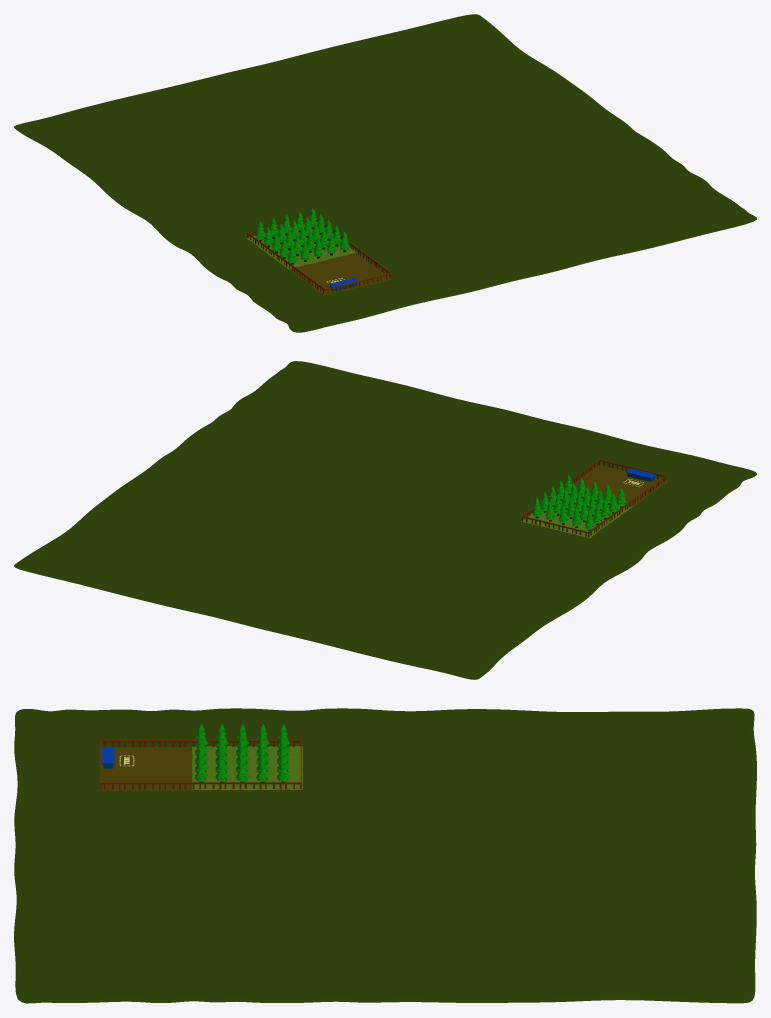
3 views of the same model, one above another, from view 1: azimuth 30°, elevation 25°; view 2: azimuth 150°, elevation 25°; view 3: azimuth 270°, elevation 25° (orthographic). The views are drawn at different scales.
Visible parts, largest first — view 1: ground-0, tree, ground-1, ground-2; view 2: ground-0, tree, ground-1, ground-2; view 3: ground-0, ground-1, tree, ground-2, fence-2, fence-1.
Boxes of the visible parts, x1,y1,x2,y2 form: ground-0: [14, 14, 756, 332]; tree: [256, 208, 349, 264]; ground-1: [246, 239, 392, 295]; ground-2: [246, 223, 356, 269]; ground-0: [14, 361, 756, 679]; tree: [532, 474, 626, 530]; ground-1: [521, 465, 667, 538]; ground-2: [521, 495, 631, 538]; ground-0: [14, 708, 756, 1003]; ground-1: [99, 746, 303, 790]; tree: [195, 724, 290, 782]; ground-2: [191, 746, 302, 790]; fence-2: [100, 782, 301, 789]; fence-1: [100, 740, 300, 747].
Bounding box in the file's own units: 16445 × 739 × 17501.
